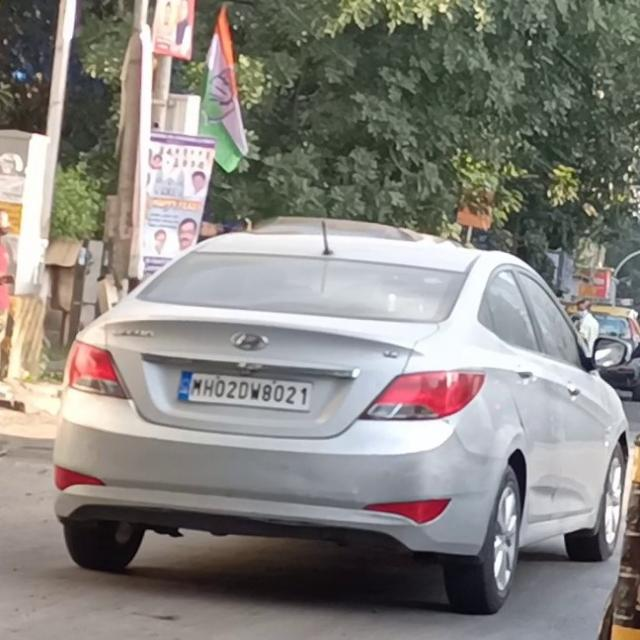license-plate: (177, 368, 313, 412)
